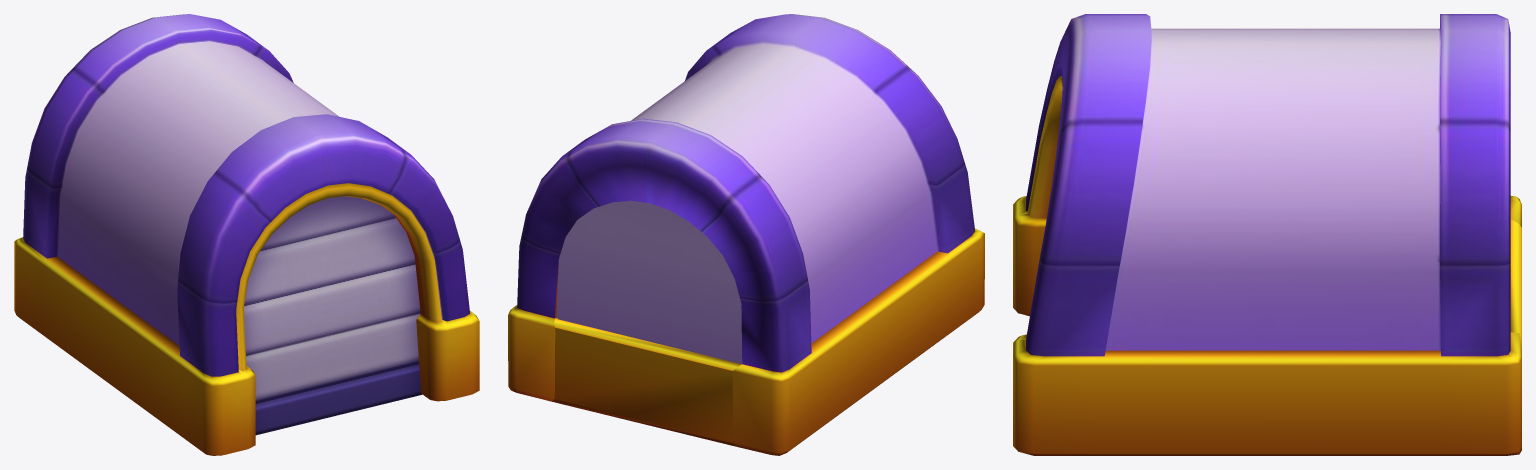
The model's file is Ham.fbx.
The picture shows the model from 3 angles, left to right: view 1: azimuth 30°, elevation 25°; view 2: azimuth 150°, elevation 25°; view 3: azimuth 270°, elevation 25°; orthographic projection. The views are drawn at different scales.
Parts seen in each view (by area): view 1: Ham.002, CuaHam.002; view 2: Ham.002; view 3: Ham.002.
Part boxes in pixels (x1,y1,x2,y2): Ham.002: (14, 14, 479, 455); CuaHam.002: (244, 196, 422, 435); Ham.002: (508, 14, 984, 455); Ham.002: (1013, 14, 1521, 455).
Bounding box in the file's own units: 1.62 × 2.07 × 1.54.
